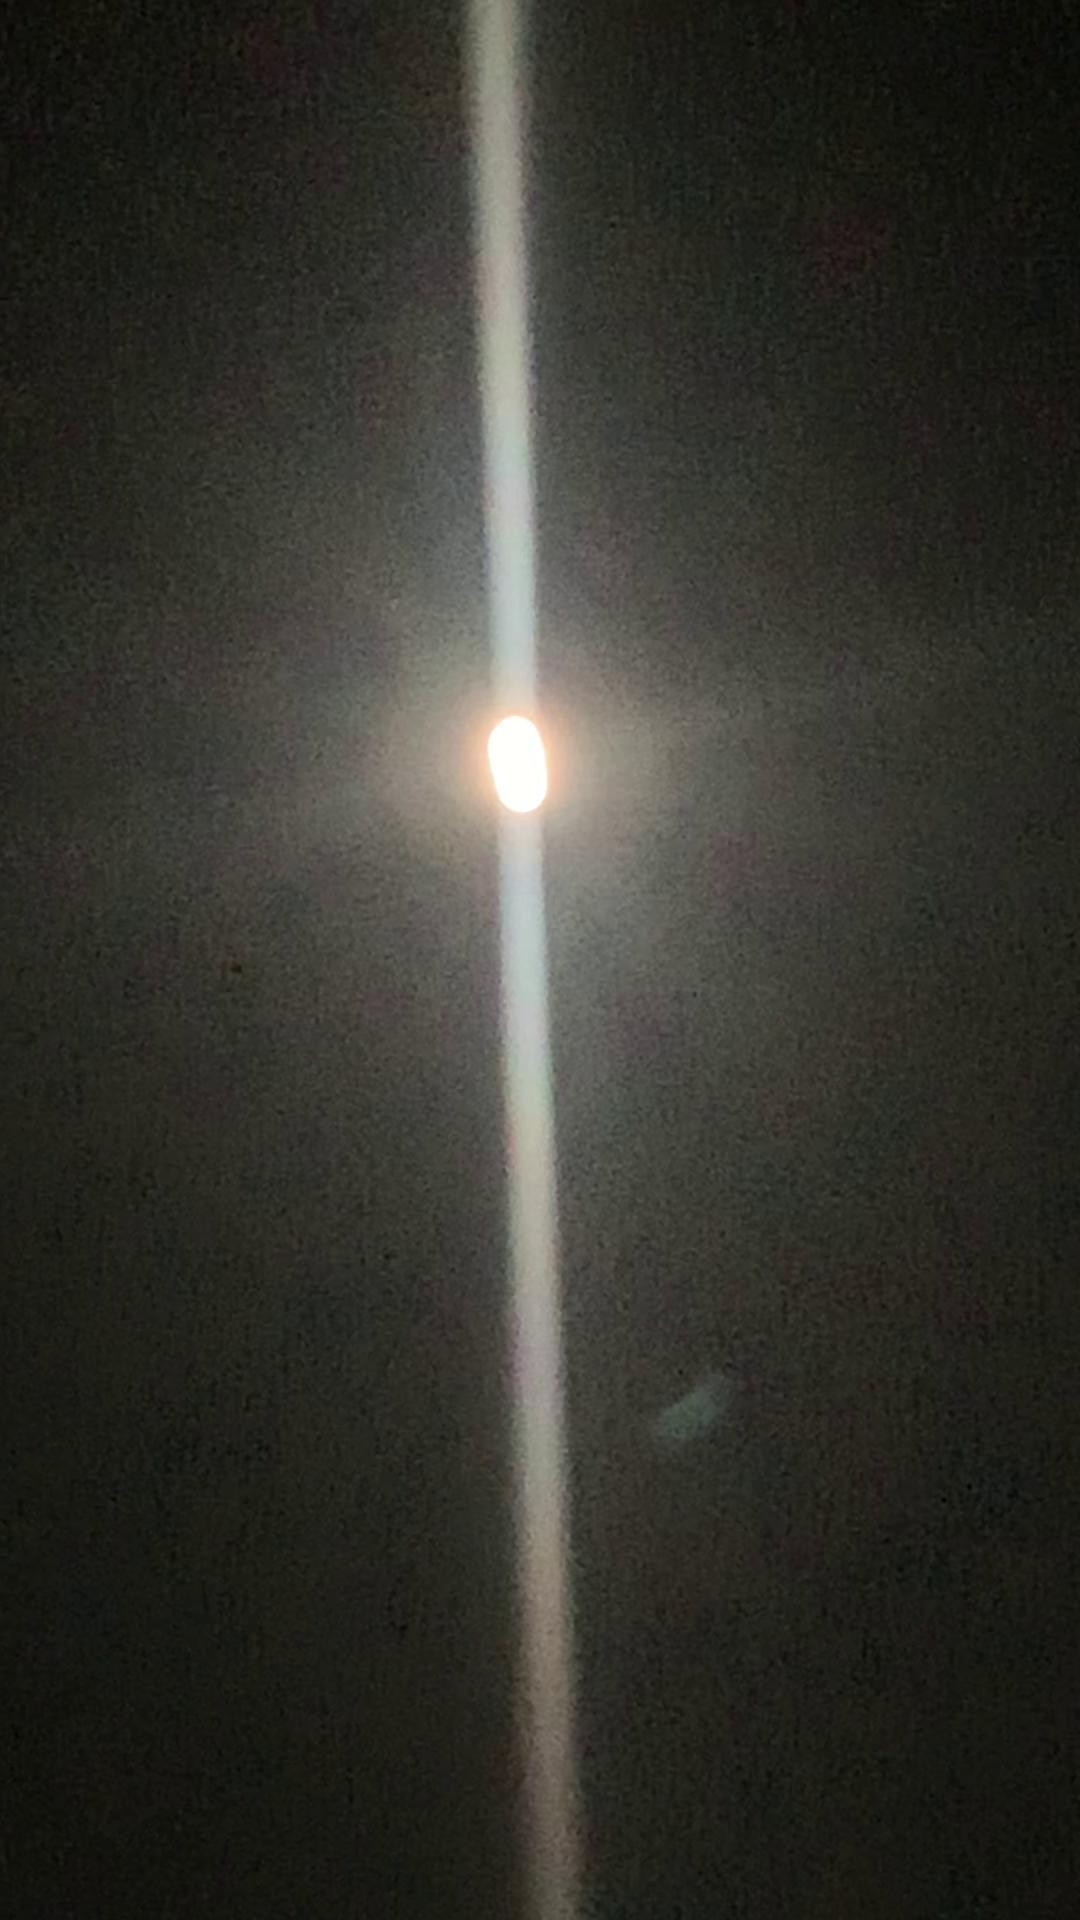moon: (459, 703, 588, 829)
